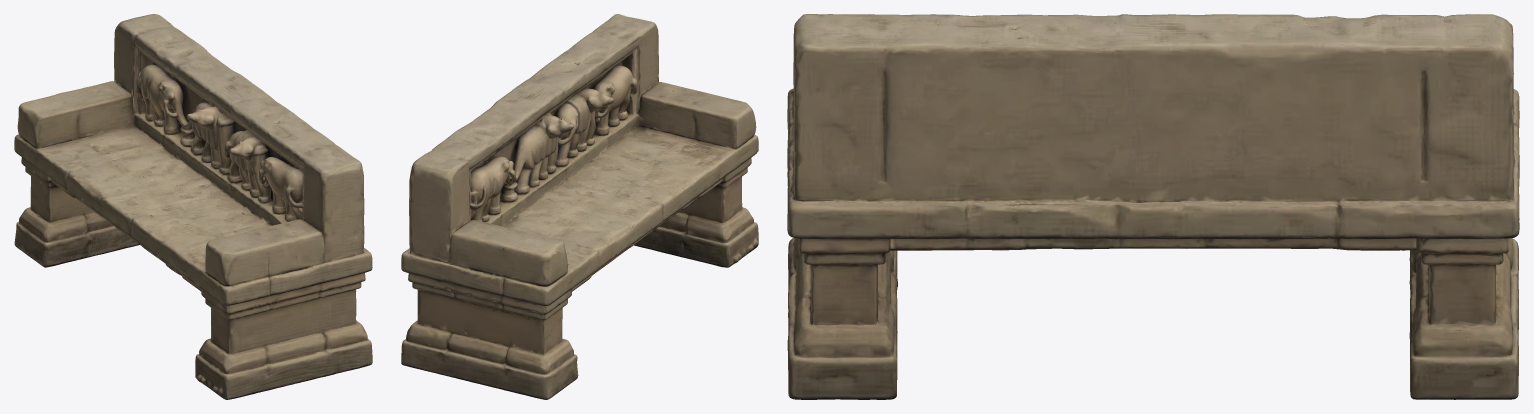
File: stone-bench-section-carved-backrest-optimized.glb
3 renders of one model, left to right at view 1: azimuth 30°, elevation 25°; view 2: azimuth 150°, elevation 25°; view 3: azimuth 270°, elevation 25°, orthographic. The views are drawn at different scales.
Parts seen in each view (by area): view 1: world; view 2: world; view 3: world.
Part boxes in pixels (bbox=[...]): world: bbox=[14, 14, 372, 399]; world: bbox=[401, 14, 758, 399]; world: bbox=[787, 14, 1519, 399].
Size of the model in its own units: 0.7364 by 0.9525 by 1.8.
Materials: 1 (1 with a texture image).
